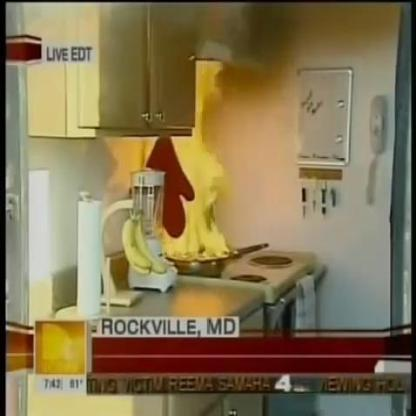fire: (138, 59, 235, 261)
